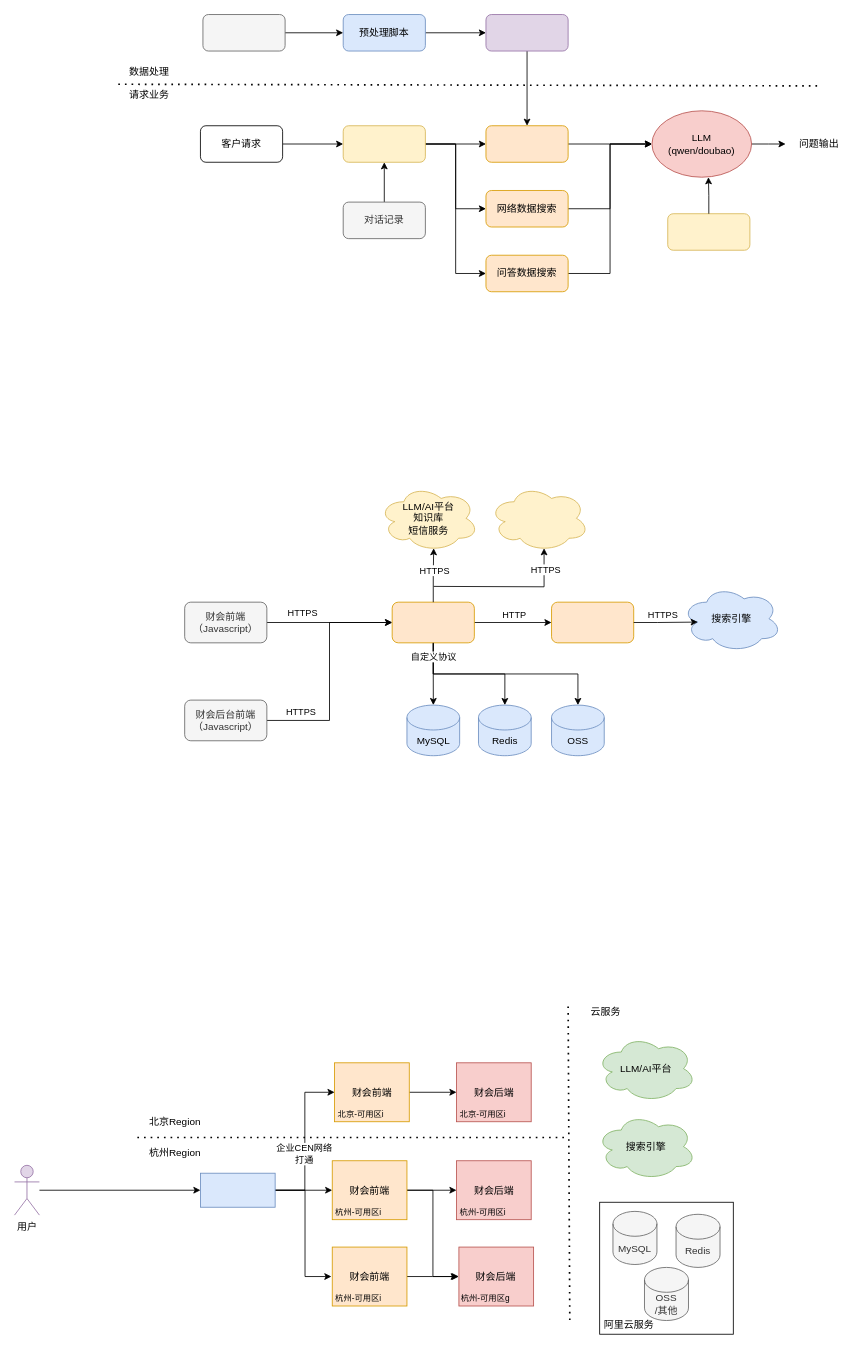
Image size: 861x1350. Some labels were removed from this diagram. Here are the shapes that lost their labels. From the top down, the box of each, then its label:
(202, 14, 285, 51): 专业书籍/案例
(485, 14, 568, 51): 专业知识库
(342, 125, 425, 162): 请求重写 （LLM）
(485, 125, 568, 162): 专业数据搜索
(667, 213, 750, 250): prompt提示词
(488, 484, 589, 552): 微信 开放平台
(391, 601, 474, 643): 财会后端 （Java）
(551, 601, 634, 643): 数据处理 （python）
(200, 1172, 275, 1207): ALB （负载均衡）
